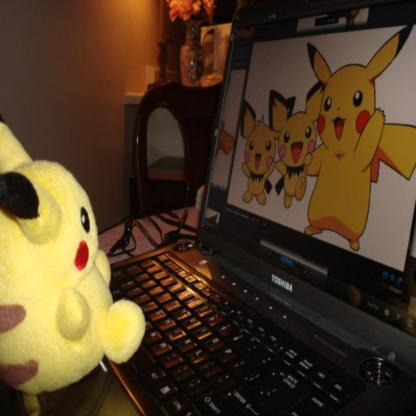board: (96, 14, 415, 416)
